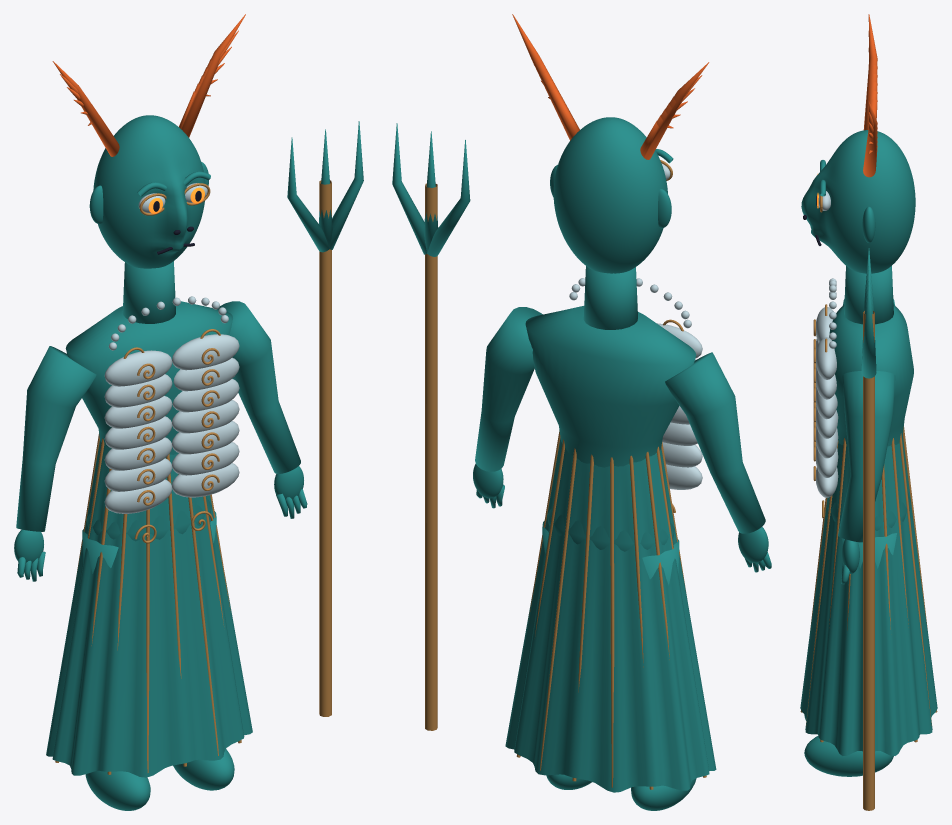
Rendered from abyssal-cantor.glb.
3 views of the same model, side by side, from view 1: azimuth 30°, elevation 25°; view 2: azimuth 150°, elevation 25°; view 3: azimuth 270°, elevation 25° (orthographic). The views are drawn at different scales.
Parts seen in each view (by area): view 1: Abyssal Cantor / teal.004, Abyssal Cantor / pearl.004, Abyssal Cantor / gold.004, Abyssal Cantor / orange.004; view 2: Abyssal Cantor / teal.004, Abyssal Cantor / gold.004, Abyssal Cantor / pearl.004, Abyssal Cantor / orange.004; view 3: Abyssal Cantor / teal.004, Abyssal Cantor / gold.004, Abyssal Cantor / pearl.004, Abyssal Cantor / orange.004.
Part boxes in pixels (left/top/right/bottom): Abyssal Cantor / teal.004: left=14, top=115, right=363, bottom=810; Abyssal Cantor / pearl.004: left=104, top=183, right=239, bottom=513; Abyssal Cantor / gold.004: left=55, top=180, right=331, bottom=774; Abyssal Cantor / orange.004: left=52, top=14, right=245, bottom=156; Abyssal Cantor / teal.004: left=392, top=117, right=771, bottom=810; Abyssal Cantor / gold.004: left=425, top=160, right=706, bottom=789; Abyssal Cantor / pearl.004: left=569, top=163, right=702, bottom=489; Abyssal Cantor / orange.004: left=512, top=14, right=709, bottom=159; Abyssal Cantor / teal.004: left=800, top=130, right=937, bottom=776; Abyssal Cantor / gold.004: left=800, top=195, right=937, bottom=810; Abyssal Cantor / pearl.004: left=815, top=191, right=838, bottom=497; Abyssal Cantor / orange.004: left=863, top=14, right=877, bottom=177.
Bounding box in the file's own units: 1.28 × 2.56 × 0.4567.
